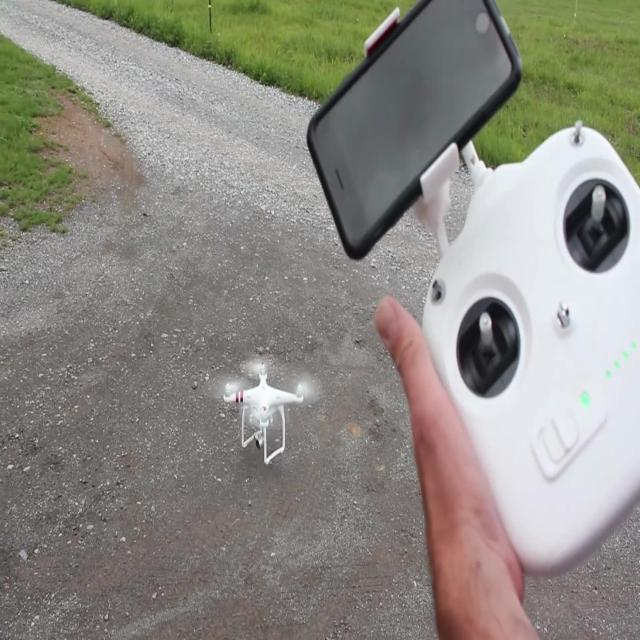drone: (221, 355, 307, 467)
